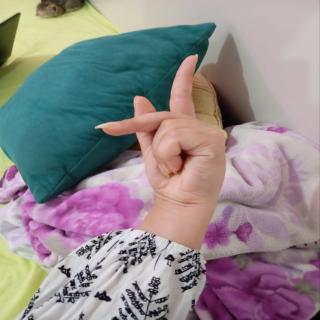DHAA: (91, 54, 248, 227)
